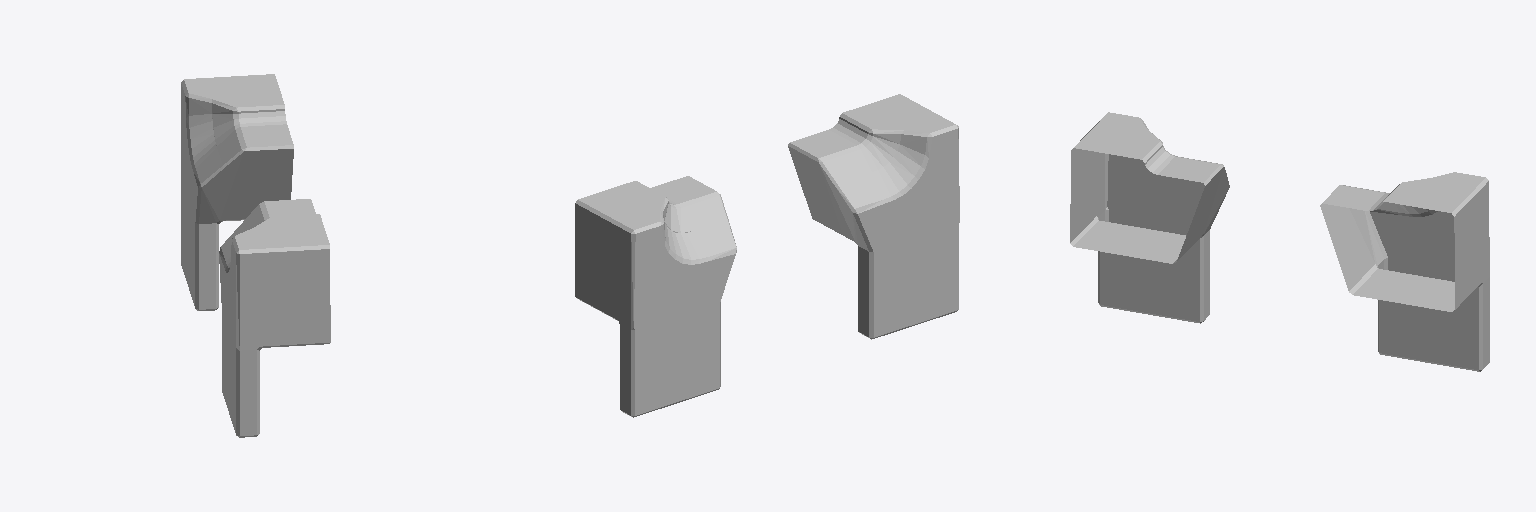
3 renders of one model, left to right at view 1: azimuth 30°, elevation 25°; view 2: azimuth 150°, elevation 25°; view 3: azimuth 270°, elevation 25°, orthographic.
Visible parts, largest first — view 1: Bistro_Research_Exterior_paris_building_11_5875; view 2: Bistro_Research_Exterior_paris_building_11_5875; view 3: Bistro_Research_Exterior_paris_building_11_5875.
Boxes of the visible parts, <box> form: Bistro_Research_Exterior_paris_building_11_5875: <box>181,74,330,437</box>; Bistro_Research_Exterior_paris_building_11_5875: <box>575,94,959,417</box>; Bistro_Research_Exterior_paris_building_11_5875: <box>1070,112,1489,371</box>.
Size of the model in its own units: 1.25 by 1.06 by 2.15.